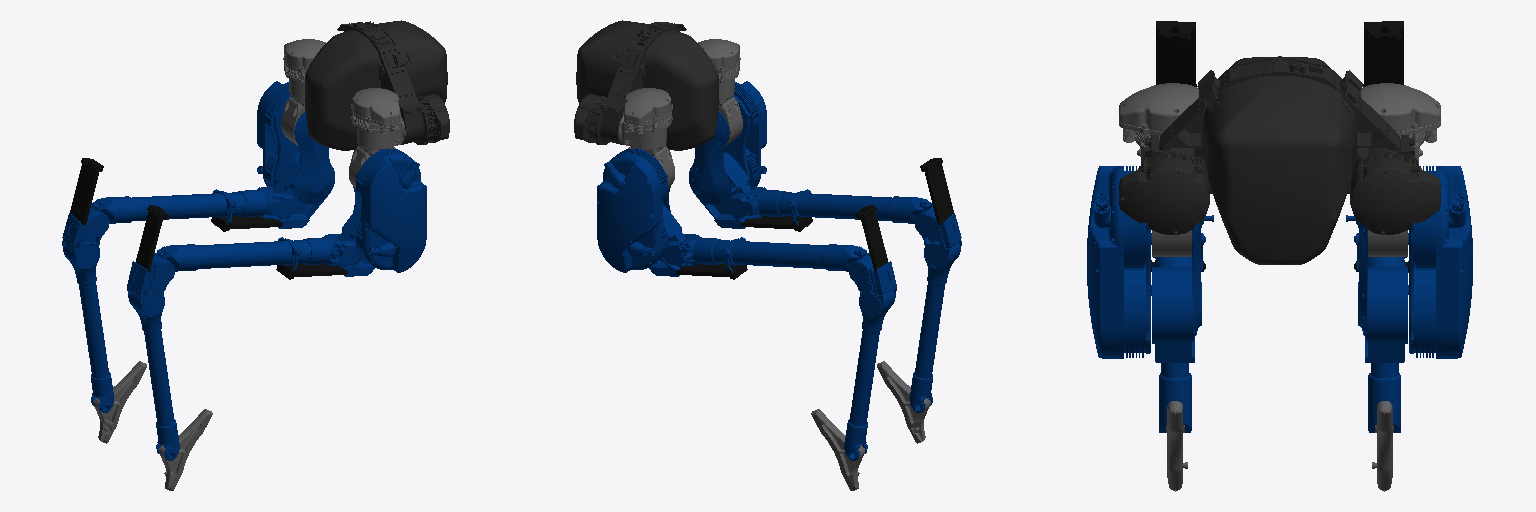
--- Render facts (derived) ---
Views: 3 orthographic renders of the robot side by side, from view 1: azimuth 30°, elevation 25°; view 2: azimuth 150°, elevation 25°; view 3: azimuth 270°, elevation 25°.
Model cassie with 23 links and 22 joints (16 revolute, 6 fixed), rooted at pelvis, posed joints at zero except 4 at the middle of their limits (knee_left = -1.75, knee_right = -1.75, ankle_joint_left = 1.9, ankle_joint_right = 1.9).
Links seen in each view (by area): view 1: pelvis, thigh_right, shin_right, thigh_left, shin_left, tarsus_right, tarsus_left, yaw_right, yaw_left, toe_left, knee_left, toe_right (+6 smaller); view 2: pelvis, thigh_left, shin_left, thigh_right, shin_right, tarsus_left, tarsus_right, yaw_left, yaw_right, toe_right, knee_right, toe_left (+6 smaller); view 3: pelvis, thigh_left, thigh_right, knee_left, knee_right, yaw_right, yaw_left, heel_spring_left, heel_spring_right, tarsus_left, tarsus_right, toe_left (+5 smaller).
Link boxes in pixels (box(x1,y1,x2,y2)): pelvis: box(305, 20, 449, 150); thigh_right: box(353, 149, 426, 272); shin_right: box(151, 234, 360, 274); thigh_left: box(257, 81, 334, 203); shin_left: box(89, 187, 296, 225); tarsus_right: box(127, 253, 179, 460); tarsus_left: box(62, 205, 113, 412); yaw_right: box(351, 88, 405, 148); yaw_left: box(283, 39, 325, 99); toe_left: box(93, 361, 146, 443); knee_left: box(272, 152, 334, 228); toe_right: box(158, 409, 212, 490); pelvis: box(574, 20, 718, 150); thigh_left: box(597, 149, 670, 272); shin_left: box(663, 234, 872, 274); thigh_right: box(689, 81, 766, 203); shin_right: box(727, 187, 934, 225); tarsus_left: box(844, 253, 896, 460); tarsus_right: box(909, 205, 961, 412); yaw_left: box(618, 88, 672, 148); yaw_right: box(698, 39, 740, 99); toe_right: box(877, 361, 930, 443); knee_right: box(689, 152, 751, 228); toe_left: box(811, 409, 865, 490); pelvis: box(1119, 56, 1440, 264); thigh_left: box(1346, 166, 1472, 358); thigh_right: box(1087, 166, 1213, 358); knee_left: box(1365, 267, 1407, 362); knee_right: box(1152, 267, 1194, 362); yaw_right: box(1119, 83, 1198, 168); yaw_left: box(1361, 83, 1440, 168); heel_spring_left: box(1363, 21, 1403, 86); heel_spring_right: box(1156, 21, 1196, 86); tarsus_left: box(1368, 363, 1400, 432); tarsus_right: box(1159, 363, 1191, 432); toe_left: box(1372, 401, 1393, 491).
Size in the robot's own frame: 0.7712 by 0.4825 by 0.8448 metres.
Meshes: 17 distinct files referenced, 19 mesh visuals loaded (17 OBJ).

URDF robot description (cassie):
<robot name="cassie">

  <link name="pelvis">
    <inertial>
      <origin
        xyz=".05066 0.000346 .02841"
        rpy="0 0 0" />
      <mass value="10.33" />
      <inertia
        ixx="0.085821"
        iyy="0.049222"
        izz="0.08626"
        ixy="1.276e-05"
        ixz="-0.00016022"
        iyz="-0.000414" />
    </inertial>
    <visual>
      <origin
        xyz="0 0 0"
        rpy="0 0 0" />
      <geometry>
        <mesh filename="meshes/pelvis.obj" />
      </geometry>
      <material name="">
        <color
          rgba="0.2 0.2 0.2 1.0" />
      </material>
    </visual>
  </link>

  <link name="yaw_left">
    <inertial>
      <origin
        xyz="-0.01793 0.0001 -0.04428"
        rpy="0 1.570796 0" />
      <mass value="1.82" />
      <inertia
        ixx="0.003431"
        iyy="0.003793"
        izz="0.002135"
        ixy="-6.65e-07"
        ixz="-0.00084"
        iyz="3.99e-06" />
    </inertial>
    <visual>
      <origin
        xyz="0 0 -0.07"
        rpy="0 -1.570796 0" />
      <geometry>
        <mesh filename="meshes/agility/left_yaw.obj" />
      </geometry>
      <material name="">
        <color rgba="0.4 0.4 0.4 1" />
      </material>
    </visual>
  </link>

  <link name="yaw_right">
    <inertial>
      <origin
        xyz="-0.01793 0.0001 -0.04428"
        rpy="0 1.570796 0" />
      <mass value="1.82" />
      <inertia
        ixx="0.003431"
        iyy="0.003793"
        izz="0.002135"
        ixy="6.65e-07"
        ixz="-0.00084"
        iyz="-3.99e-06" />
    </inertial>
    <visual>
      <origin
        xyz="0 0 -0.07"
        rpy="0 -1.570796 0" />
      <geometry>
        <mesh filename="meshes/agility/right_yaw.obj" />
      </geometry>
      <material name="">
        <color rgba="0.4 0.4 0.4 1" />
      </material>
    </visual>
  </link>

  <link name="hip_left">
    <inertial>
      <origin
        xyz="0 -1e-05 -0.034277"
        rpy="0 -1.570796 0" />
      <mass value="1.171" />
      <inertia
        ixx="0.002443"
        iyy="0.002803"
        izz="0.000842"
        ixy="-4e-08"
        ixz="2.462e-07"
        iyz="-2.71e-08" />
    </inertial>
    <visual>
      <origin
        xyz="0 0 -0.09"
        rpy="-1.570796 1.570796 0" />
      <geometry>
        <mesh filename="meshes/agility/left_hip.obj" />
      </geometry>
      <material name="">
        <color rgba="0.4 0.4 0.4 1" />
      </material>
    </visual>
  </link>

  <link name="hip_right">
    <inertial>
      <origin
        xyz="0 1e-05 -0.034277"
        rpy="0 -1.570796 0" />
      <mass value="1.171" />
      <inertia
        ixx="0.002443"
        iyy="0.002803"
        izz="0.000842"
        ixy="4e-08"
        ixz="2.462e-07"
        iyz="2.71e-08" />
    </inertial>
    <visual>
      <origin
        xyz="0 0 -0.09"
        rpy="-1.570796 1.570796 0" />
      <geometry>
        <mesh filename="meshes/agility/right_hip.obj" />
      </geometry>
      <material name="">
        <color rgba="0.4 0.4 0.4 1" />
      </material>
    </visual>
  </link>

  <link name="thigh_left">
    <inertial>
      <origin
        xyz="0.05946 0.00005 -.03581"
        rpy="1.570796 -1.570796 0" />
      <mass value="5.52" />
      <inertia
        ixx="0.010898"
        iyy="0.029714"
        izz="0.030257"
        ixy="-0.0002669"
        ixz="-5.721e-05"
        iyz="9.17e-06" />
    </inertial>
    <visual>
      <origin
        xyz="0 0 0"
        rpy="0 0 0" />
      <geometry>
        <mesh filename="meshes/agility/left_thigh.obj" />
      </geometry>
      <material name="">
        <color rgba="0.024 0.24 0.5 1.0" />
      </material>
    </visual>
  </link>

  <link name="thigh_right">
    <inertial>
      <origin
        xyz="0.05946 0.00005 .03581"
        rpy="1.570796 -1.570796 0" />
      <mass value="5.52" />
      <inertia
        ixx="0.010898"
        iyy="0.029714"
        izz="0.030257"
        ixy="-0.0002669"
        ixz="5.721e-05"
        iyz="-9.17e-06" />
    </inertial>
    <visual>
      <origin
        xyz="0 0 0"
        rpy="0 0 0" />
      <geometry>
        <mesh filename="meshes/agility/right_thigh.obj" />
      </geometry>
      <material name="">
        <color rgba="0.024 0.24 0.5 1.0" />
      </material>
    </visual>
  </link>

  <link name="knee_left">
    <inertial>
      <origin
        xyz="0.023 0.03207 -0.002181"
        rpy="0 0 -0.7854" />
      <mass value="0.7578" />
      <inertia
        ixx="0.001376"
        iyy="0.0010335"
        izz="0.0021637"
        ixy="-0.00039744"
        ixz="-4.085e-05"
        iyz="-5.374e-05" />
    </inertial>
    <visual>
      <origin
        xyz="0 0 0"
        rpy="0 0 0" />
      <geometry>
        <mesh filename="meshes/knee-output.obj" />
      </geometry>
      <material name="">
        <color rgba="0.024 0.24 0.5 1.0" />
      </material>
    </visual>
  </link>

  <link name="knee_right">
    <inertial>
      <origin
        xyz="0.023 0.03207 0.002181"
        rpy="0 0 -0.7854" />
      <mass value="0.7578" />
      <inertia
        ixx="0.001376"
        iyy="0.0010335"
        izz="0.0021637"
        ixy="-0.00039744"
        ixz="4.085e-05"
        iyz="5.374e-05" />
    </inertial>
    <visual>
      <origin
        xyz="0 0 0"
        rpy="0 0 0" />
      <geometry>
        <mesh filename="meshes/knee-output-r.obj" />
      </geometry>
      <material name="">
        <color rgba="0.024 0.24 0.5 1.0" />
      </material>
    </visual>
  </link>

  <link name="shin_left">
    <inertial>
      <origin
        xyz=".18338 0.001169 0.0002123"
        rpy="0 0 0" />
      <mass value="0.5771" />
      <inertia
        ixx="0.00035939"
        iyy="0.014728"
        izz="0.014707"
        ixy="-0.00020981"
        ixz="2.266e-05"
        iyz="-1.2e-07" />
    </inertial>
    <visual>
      <origin
        xyz="0 0 0"
        rpy="0 0 0" />
      <geometry>
        <mesh filename="meshes/agility/left_shin.obj" />
      </geometry>
      <material name="">
        <color rgba="0.024 0.24 0.5 1.0" />
      </material>
    </visual>
  </link>

  <link name="shin_right">
    <inertial>
      <origin
        xyz=".18338 0.001169 -0.0002123"
        rpy="0 0 0" />
      <mass value="0.5771" />
      <inertia
        ixx="0.00035939"
        iyy="0.014728"
        izz="0.014707"
        ixy="-0.00020981"
        ixz="-2.266e-05"
        iyz="1.2e-07" />
    </inertial>
    <visual>
      <origin
        xyz="0 0 0"
        rpy="0 0 0" />
      <geometry>
        <mesh filename="meshes/agility/right_shin.obj" />
      </geometry>
      <material name="">
        <color rgba="0.024 0.24 0.5 1.0" />
      </material>
    </visual>
  </link>

  <link name="knee_spring_left">
    <inertial>
      <origin
        xyz=".08364 0.003427 0.0"
        rpy="0 0 0" />
      <mass value="0.1864" />
      <inertia
        ixx="5.215e-05"
        iyy="0.00041205"
        izz="0.0003669"
        ixy="6.87e-06"
        ixz="0"
        iyz="0" />
    </inertial>
    <visual>
      <origin
        xyz="0 0 0"
        rpy="0 0 0" />
      <geometry>
        <mesh filename="meshes/knee-spring.obj" />
      </geometry>
      <material name="">
        <color rgba="0.1 0.1 0.1 1" />
      </material>
    </visual>
  </link>

  <link name="knee_spring_right">
    <inertial>
      <origin
        xyz=".08364 0.003427 0.0"
        rpy="0 0 0" />
      <mass value="0.1864" />
      <inertia
        ixx="5.215e-05"
        iyy="0.00041205"
        izz="0.0003669"
        ixy="6.87e-06"
        ixz="0"
        iyz="0" />
    </inertial>
    <visual>
      <origin
        xyz="0 0 0"
        rpy="0 0 0" />
      <geometry>
        <mesh filename="meshes/knee-spring.obj" />
      </geometry>
      <material name="">
        <color rgba="0.1 0.1 0.1 1" />
      </material>
    </visual>
  </link>

  <link name="tarsus_left">
    <inertial>
      <origin
        xyz=".11046 -.03058 -.00131"
        rpy="0 0 0" />
      <mass value="0.782" />
        <inertia
        ixx=".001125"
        ixy="-.002878"
        ixz="-.00006329"
        iyy=".023138"
        iyz=".00003615"
        izz=".023947" />
    </inertial>
    <visual>
      <origin
        xyz="0 0 0"
        rpy="0 0 0" />
      <geometry>
        <mesh filename="meshes/tarsus.obj" />
      </geometry>
      <material name="">
        <color rgba="0.024 0.24 0.5 1.0" />
      </material>
    </visual>
  </link>

  <link name="tarsus_right">
    <inertial>
      <origin
        xyz=".11046 -.03058 .00131"
        rpy="0 0 0" />
      <mass value="0.782" />
      <inertia
        ixx=".001125"
        ixy="-.002878"
        ixz=".00006329"
        iyy=".023138"
        iyz="-.00003615"
        izz=".023947" />
    </inertial>
    <visual>
      <origin
        xyz="0 0 0"
        rpy="0 0 0" />
      <geometry>
        <mesh filename="meshes/tarsus-r.obj" />
      </geometry>
      <material name="">
        <color rgba="0.024 0.24 0.5 1.0" />
      </material>
    </visual>
  </link>

  <link name="heel_spring_left">
    <inertial>
      <origin
        xyz="0.08097 0.00223 -0.0000385"
        rpy="0 0 0" />
      <mass value="0.1259" />
      <inertia
        ixx="2.959e-05"
        iyy="0.00022231"
        izz="0.0002007"
        ixy="7.15e-06"
        ixz="-6e-07"
        iyz="1e-07" />
    </inertial>
    <visual>
      <origin
        xyz="0 0 0"
        rpy="0 0 0" />
      <geometry>
        <mesh filename="meshes/heel-spring.obj" />
      </geometry>
      <material name="">
        <color rgba="0.1 0.1 0.1 1" />
      </material>
    </visual>
  </link>

  <link name="heel_spring_right">
    <inertial>
      <origin
        xyz="0.08097 0.00223 -0.0000385"
        rpy="0 0 0" />
      <mass value="0.1259" />
      <inertia
        ixx="2.959e-05"
        iyy="0.00022231"
        izz="0.0002007"
        ixy="7.15e-06"
        ixz="6e-07"
        iyz="-1e-07" />
    </inertial>
    <visual>
      <origin
        xyz="0 0 0"
        rpy="0 0 0" />
      <geometry>
        <mesh filename="meshes/heel-spring.obj" />
      </geometry>
      <material name="">
        <color rgba="0.1 0.1 0.1 1" />
      </material>
    </visual>
  </link>

  <!--
      **************************************************************
      lumped masses for the foot crank and plantar rods-attaching them
      to the foot at the heel location
      **************************************************************
  -->
  <link name="foot_crank_mass_left">
    <inertial>
      <mass value="0.129"/>
    </inertial>
  </link>

  <link name="foot_crank_mass_right">
    <inertial>
      <mass value="0.129"/>
    </inertial>
  </link>

  <link name="plantar_rod_mass_left">
    <inertial>
      <mass value="0.1186"/>
    </inertial>
  </link>

  <link name="plantar_rod_mass_right">
    <inertial>
      <mass value="0.1186"/>
    </inertial>
  </link>

  <link name="toe_left">
    <inertial>
      <origin
        xyz="0.00474 0.02748 -0.00014"
        rpy="0 0 0" />
      <mass value="0.1498" />
      <inertia
        ixx="0.00017388"
        iyy="0.00016793"
        izz="0.00033261"
        ixy="0.00011814"
        ixz="1.36e-06"
        iyz="-4e-07" />
    </inertial>
    <visual>
      <origin
        xyz="0 0 0"
        rpy="0 0 0" />
      <geometry>
        <mesh filename="meshes/agility/left_foot.obj" />
        <!-- <mesh filename="meshes/toe.obj" /> -->
      </geometry>
      <material name="">
        <color rgba="0.4 0.4 0.4 1" />
      </material>
    </visual>

    <visual>
      <geometry>
        <sphere radius="0.001"/>
      </geometry>
      <origin xyz="-0.0457 .112 0" rpy="0 0 0"/>
    </visual>
    <collision>
      <geometry>
        <sphere radius="0.0"/>
      </geometry>
      <origin xyz="-0.0457 .112 0" rpy="0 0 0"/>
    </collision>
   <visual>
      <geometry>
        <sphere radius="0.001"/>
      </geometry>
      <origin xyz="0.088 0 0" rpy="0 0 0"/>
    </visual>
    <collision>
      <geometry>
        <sphere radius="0.0"/>
      </geometry>
      <origin xyz="0.088 0 0" rpy="0 0 0"/>
    </collision>
   </link>

  <link name="toe_right">
    <inertial>
      <origin
        xyz="0.00474 0.02748 0.00014"
        rpy="0 0 0" />
      <mass value="0.1498" />
      <inertia
        ixx="0.00017388"
        iyy="0.00016793"
        izz="0.00033261"
        ixy="0.00011814"
        ixz="-1.36e-06"
        iyz="4e-07" />
    </inertial>
    <visual>
      <origin
        xyz="0 0 0"
        rpy="0 0 0" />
      <geometry>
        <mesh filename="meshes/agility/right_foot.obj" />
        <!-- <mesh filename="meshes/toe-r.obj" /> -->
      </geometry>
      <material name="">
        <color rgba="0.4 0.4 0.4 1" />
      </material>
    </visual>
        <visual>
      <geometry>
        <sphere radius="0.001"/>
      </geometry>
      <origin xyz="-0.0457 .112 0" rpy="0 0 0"/>
    </visual>
    <collision>
      <geometry>
        <sphere radius="0.0"/>
      </geometry>
      <origin xyz="-0.0457 .112 0" rpy="0 0 0"/>
    </collision>
   <visual>
      <geometry>
        <sphere radius="0.001"/>
      </geometry>
      <origin xyz="0.088 0 0" rpy="0 0 0"/>
    </visual>
    <collision>
      <geometry>
        <sphere radius="0.0"/>
      </geometry>
      <origin xyz="0.088 0 0" rpy="0 0 0"/>
    </collision>
  </link>


 
 <!-- JOINTS ||| JOINTS ||| JOINTS ||| JOINTS ||| JOINTS |||-->
 <!-- JOINTS ||| JOINTS ||| JOINTS ||| JOINTS ||| JOINTS |||-->
 <!-- JOINTS ||| JOINTS ||| JOINTS ||| JOINTS ||| JOINTS |||-->
 <!-- JOINTS ||| JOINTS ||| JOINTS ||| JOINTS ||| JOINTS |||-->
 <!-- JOINTS ||| JOINTS ||| JOINTS ||| JOINTS ||| JOINTS |||-->
 <!-- JOINTS ||| JOINTS ||| JOINTS ||| JOINTS ||| JOINTS |||-->
 <!-- JOINTS ||| JOINTS ||| JOINTS ||| JOINTS ||| JOINTS |||-->
 <!-- JOINTS ||| JOINTS ||| JOINTS ||| JOINTS ||| JOINTS |||-->
 <!-- JOINTS ||| JOINTS ||| JOINTS ||| JOINTS ||| JOINTS |||-->
 <!-- JOINTS ||| JOINTS ||| JOINTS ||| JOINTS ||| JOINTS |||-->


  <joint name="hip_roll_left" type="revolute">
    <origin xyz=".021 .135 0" rpy="0 1.570796 0" />
    <parent link="pelvis" />
    <child link="yaw_left" />
    <axis xyz="0 0 1" />
    <limit lower="-0.262" upper="0.393" effort="300"/>
    <dynamics damping="1" /> 
  </joint>

  <joint name="hip_roll_right" type="revolute">
    <origin xyz=".021 -.135 0" rpy="0 1.570796 0" />
    <parent link="pelvis" />
    <child link="yaw_right" />
    <axis xyz="0 0 1" />
    <limit lower="-0.393" upper="0.262" effort="300"/>
    <dynamics damping="1" /> 
  </joint> 


  <joint name="hip_yaw_left" type="revolute">
    <origin xyz="0 0 -0.07" rpy="0 -1.570796 0" />
    <parent link="yaw_left" />
    <child link="hip_left" />
    <axis xyz="0 0 1" />
    <limit lower="-0.393" upper="0.393" effort="300"/>
    <dynamics damping="1" /> 
  </joint>

   <joint name="hip_yaw_right" type="revolute">
    <origin xyz="0 0 -0.07" rpy="0 -1.570796 0" />
    <parent link="yaw_right" />
    <child link="hip_right" />
    <axis xyz="0 0 1" />
    <limit lower="-0.393" upper="0.393" effort="300"/>
    <dynamics damping="1" /> 
  </joint>


  <joint name="hip_pitch_left" type="revolute">
    <origin xyz="0 0 -0.09" rpy="1.570796 1.570796 0" />
    <parent link="hip_left" />
    <child link="thigh_left" />
    <axis xyz="0 0 1" />
    <limit lower="-0.873" upper="1.396" effort="300"/>
    <dynamics damping="1" /> 
  </joint>

  <joint name="hip_pitch_right" type="revolute">
    <origin xyz="0 0 -0.09" rpy="1.570796 1.570796 0" />
    <parent link="hip_right" />
    <child link="thigh_right" />
    <axis xyz="0 0 1" />
    <limit lower="-0.873" upper="1.396" effort="300"/>
    <dynamics damping="1" /> 
  </joint>

  <joint name="knee_left" type="revolute">
    <origin xyz="0.12 0 0.0045" rpy="0 0 0" />
    <parent link="thigh_left" />
    <child link="knee_left" />
    <axis xyz="0 0 1" />
    <limit lower="-2.862" upper="-0.646" effort="300"/>
    <dynamics damping="1" />
  </joint>

  <joint name="knee_right" type="revolute">
    <origin xyz="0.12 0 -0.0045" rpy="0 0 0" />
    <parent link="thigh_right" />
    <child link="knee_right" />
    <axis xyz="0 0 1" />
    <limit lower="-2.862" upper="-0.646" effort="300"/>
    <dynamics damping="1" />
  </joint>


  <joint name="foot_crank_mass_left" type="fixed">
    <origin xyz=".055 0 .00776"/>
    <parent link="toe_left" />
    <child link="foot_crank_mass_left" />
  </joint>

  <joint name="foot_crank_mass_right" type="fixed">
    <origin xyz=".055 0 -.00776"/>
    <parent link="toe_right" />
    <child link="foot_crank_mass_right" />
  </joint>

  <joint name="plantar_rod_mass_left" type="fixed">
    <origin xyz=".055 0 .00776"/>
    <parent link="toe_left" />
    <child link="plantar_rod_mass_left" />
  </joint>

  <joint name="plantar_rod_mass_right" type="fixed">
    <origin xyz=".055 0 -.00776"/>
    <parent link="toe_right" />
    <child link="plantar_rod_mass_right" />
  </joint>

  <joint name="knee_joint_left" type="revolute">
    <origin xyz="0.06068 0.04741 0" rpy="0 0 0" />
    <parent link="knee_left" />
    <child link="shin_left" />
    <axis xyz="0 0 1" />
    <limit lower="-.1" upper="0.075"/>
    <dynamics damping=".1" />
  </joint>

  <joint name="knee_joint_right" type="revolute">
    <origin xyz="0.06068 0.04741 0" rpy="0 0 0" />
    <parent link="knee_right" />
    <child link="shin_right" />
    <axis xyz="0 0 1" />
    <limit lower="-.1" upper="0.075"/>
    <dynamics damping=".1" />
  </joint>


  <joint name="knee_spring_left_fixed" type="fixed">
    <origin xyz="0.06068 0.08241 0" rpy="0 0 0" />
    <parent link="knee_left" />
    <child link="knee_spring_left" />
  </joint> 

  <joint name="knee_spring_right_fixed" type="fixed">
    <origin xyz="0.06068 0.08241 0" rpy="0 0 0" />
    <parent link="knee_right" />
    <child link="knee_spring_right" />
  </joint> 


  <joint name="ankle_joint_left" type="revolute">
    <origin xyz="0.43476 0.02 0" rpy="0 0 0" />
    <parent link="shin_left" />
    <child link="tarsus_left" />
    <axis xyz="0 0 1" />
    <limit lower=".8" upper="3"/>
    <dynamics damping="0.1" /> 
  </joint>

  <joint name="ankle_joint_right" type="revolute">
    <origin xyz="0.43476 0.02 0" rpy="0 0 0" />
    <parent link="shin_right" />
    <child link="tarsus_right" />
    <axis xyz="0 0 1" />
    <limit lower=".8" upper="3"/>
    <dynamics damping="0.1" />
  </joint>

<!-- rpy="-0.0689 -0.0370 2.7208"-->
  <joint name="ankle_spring_joint_left" type="revolute">
    <origin xyz="-.01269 -.03059 .00092" rpy="0.0780 0.00549 2.7192" />
    <parent link="tarsus_left" />
    <child link="heel_spring_left" />
    <limit lower="-.1" upper="0.1"/>
    <axis xyz="0 0 1" />
    <dynamics damping="10" /> <!-- made up value -->
  </joint> 

<!-- rpy="0.0734 0.0269 2.7201"-->
  <joint name="ankle_spring_joint_right" type="revolute">
    <origin xyz="-.01269 -.03059 -.00092" rpy="-0.0780 -0.00549 2.7192" />
    <parent link="tarsus_right" />
    <child link="heel_spring_right" />
    <limit lower="-.1" upper="0.1"/>
    <axis xyz="0 0 1" />
    <dynamics damping="10" /> <!-- made up value -->
  </joint> 


  <joint name="toe_left" type="revolute">
    <origin xyz="0.408 -0.040 0" rpy="0 0 0" />
    <parent link="tarsus_left" />
    <child link="toe_left" />
    <axis xyz="0 0 1" />
    <limit lower="-2.8" upper="0" effort="300"/>
    <dynamics damping="1" /> 
  </joint>

  <joint name="toe_right" type="revolute">
    <origin xyz="0.408 -0.040 0" rpy="0 0 0" />
    <parent link="tarsus_right" />
    <child link="toe_right" />
    <axis xyz="0 0 1" />
    <limit lower="-2.8" upper="0" effort="300"/>
    <dynamics damping="1" /> 
  </joint>

 <!-- MOTORS ||| MOTORS ||| MOTORS ||| MOTORS ||| MOTORS |||-->
 <!-- MOTORS ||| MOTORS ||| MOTORS ||| MOTORS ||| MOTORS |||-->
 <!-- MOTORS ||| MOTORS ||| MOTORS ||| MOTORS ||| MOTORS |||-->
 <!-- MOTORS ||| MOTORS ||| MOTORS ||| MOTORS ||| MOTORS |||-->
 <!-- MOTORS ||| MOTORS ||| MOTORS ||| MOTORS ||| MOTORS |||-->
 <!-- MOTORS ||| MOTORS ||| MOTORS ||| MOTORS ||| MOTORS |||-->
 <!-- MOTORS ||| MOTORS ||| MOTORS ||| MOTORS ||| MOTORS |||-->
 <!-- MOTORS ||| MOTORS ||| MOTORS ||| MOTORS ||| MOTORS |||-->
 <!-- MOTORS ||| MOTORS ||| MOTORS ||| MOTORS ||| MOTORS |||-->
 <!-- MOTORS ||| MOTORS ||| MOTORS ||| MOTORS ||| MOTORS |||-->

  <transmission name="hip_roll_left_trans" type="transmission_interface/SimpleTransmission">
    <actuator name="hip_roll_left_motor"/>
    <joint name="hip_roll_left"/>
    <mechanicalReduction>1</mechanicalReduction>
  </transmission>

  <transmission name="hip_roll_right_trans" type="transmission_interface/SimpleTransmission">
    <actuator name="hip_roll_right_motor"/>
    <joint name="hip_roll_right"/>
    <mechanicalReduction>1</mechanicalReduction>
  </transmission>

  <transmission name="hip_yaw_left_trans" type="transmission_interface/SimpleTransmission">
    <actuator name="hip_yaw_left_motor"/>
    <joint name="hip_yaw_left"/>
    <mechanicalReduction>1</mechanicalReduction>
  </transmission>

  <transmission name="hip_yaw_right_trans" type="transmission_interface/SimpleTransmission">
    <actuator name="hip_yaw_right_motor"/>
    <joint name="hip_yaw_right"/>
    <mechanicalReduction>1</mechanicalReduction>
  </transmission>

  <transmission name="hip_pitch_left_trans" type="transmission_interface/SimpleTransmission">
    <actuator name="hip_pitch_left_motor"/>
    <joint name="hip_pitch_left"/>
    <mechanicalReduction>1</mechanicalReduction>
  </transmission>

  <transmission name="hip_pitch_right_trans" type="transmission_interface/SimpleTransmission">
    <actuator name="hip_pitch_right_motor"/>
    <joint name="hip_pitch_right"/>
    <mechanicalReduction>1</mechanicalReduction>
  </transmission>

  <transmission name="knee_left_trans" type="transmission_interface/SimpleTransmission">
    <actuator name="knee_left_motor"/>
    <joint name="knee_left"/>
    <mechanicalReduction>1</mechanicalReduction>
  </transmission>

  <transmission name="knee_right_trans" type="transmission_interface/SimpleTransmission">
    <actuator name="knee_right_motor"/>
    <joint name="knee_right"/>
    <mechanicalReduction>1</mechanicalReduction>
  </transmission>

  <transmission name="toe_left_trans" type="transmission_interface/SimpleTransmission">
    <actuator name="toe_left_motor"/>
    <joint name="toe_left"/>
    <mechanicalReduction>1</mechanicalReduction>
  </transmission>

  <transmission name="toe_right_trans" type="transmission_interface/SimpleTransmission">
    <actuator name="toe_right_motor"/>
    <joint name="toe_right"/>
    <mechanicalReduction>1</mechanicalReduction>
  </transmission>

 <!-- SPRINGS ||| SPRINGS ||| SPRINGS ||| SPRINGS ||| SPRINGS |||-->
 <!-- SPRINGS ||| SPRINGS ||| SPRINGS ||| SPRINGS ||| SPRINGS |||-->
 <!-- SPRINGS ||| SPRINGS ||| SPRINGS ||| SPRINGS ||| SPRINGS |||-->
 <!-- SPRINGS ||| SPRINGS ||| SPRINGS ||| SPRINGS ||| SPRINGS |||-->
 <!-- SPRINGS ||| SPRINGS ||| SPRINGS ||| SPRINGS ||| SPRINGS |||-->
 <!-- SPRINGS ||| SPRINGS ||| SPRINGS ||| SPRINGS ||| SPRINGS |||-->
 <!-- SPRINGS ||| SPRINGS ||| SPRINGS ||| SPRINGS ||| SPRINGS |||-->
 <!-- SPRINGS ||| SPRINGS ||| SPRINGS ||| SPRINGS ||| SPRINGS |||-->
 <!-- SPRINGS ||| SPRINGS ||| SPRINGS ||| SPRINGS ||| SPRINGS |||-->
 <!-- SPRINGS ||| SPRINGS ||| SPRINGS ||| SPRINGS ||| SPRINGS |||-->

  <!-- Real springs -->
  <force_element name="left_knee_spring">
    <torsional_spring stiffness="2300" rest_angle="0" >
      <joint name="knee_joint_left" />
    </torsional_spring>
  </force_element>

  <force_element name="left_ankle_spring">
    <torsional_spring stiffness="2000" rest_angle="0">
      <joint name="ankle_spring_joint_left" />
    </torsional_spring>
  </force_element>

  <force_element name="right_knee_spring">
    <torsional_spring stiffness="2300" rest_angle="0" >
      <joint name="knee_joint_right" />
    </torsional_spring>
  </force_element>

  <force_element name="right_ankle_spring">
    <torsional_spring stiffness="2000" rest_angle="0">
      <joint name="ankle_spring_joint_right" />
    </torsional_spring>
  </force_element>

</robot>
